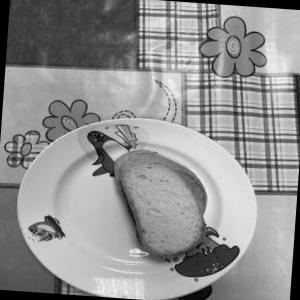bread: (94, 128, 226, 277)
